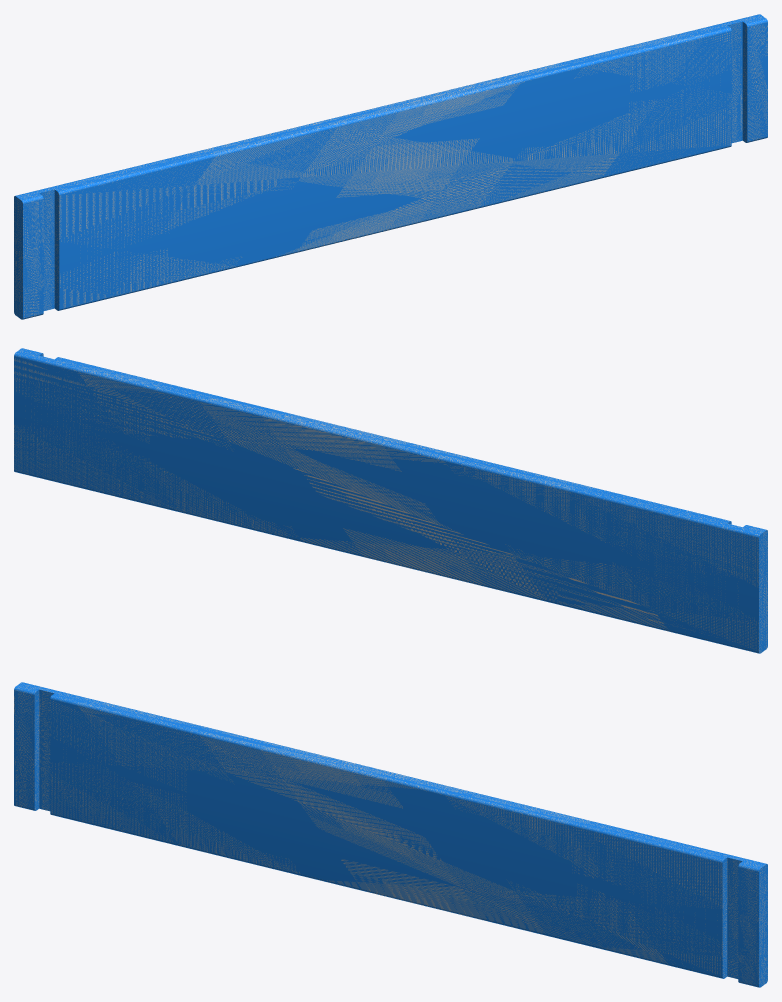
File: original-13.obj
The picture shows the model from 3 angles, top to bottom: view 1: azimuth 30°, elevation 25°; view 2: azimuth 150°, elevation 25°; view 3: azimuth 330°, elevation 25°; orthographic projection.
Parts seen in each view (by area): view 1: mesh2/mesh2-geometry#mesh2-geometry; view 2: mesh2/mesh2-geometry#mesh2-geometry; view 3: mesh2/mesh2-geometry#mesh2-geometry.
Part boxes in pixels (x1,y1,x2,y2): mesh2/mesh2-geometry#mesh2-geometry: (14,14,767,319); mesh2/mesh2-geometry#mesh2-geometry: (14,348,767,653); mesh2/mesh2-geometry#mesh2-geometry: (14,682,767,987).
Size of the model in its own units: 1.56 by 0.2386 by 0.0325.
